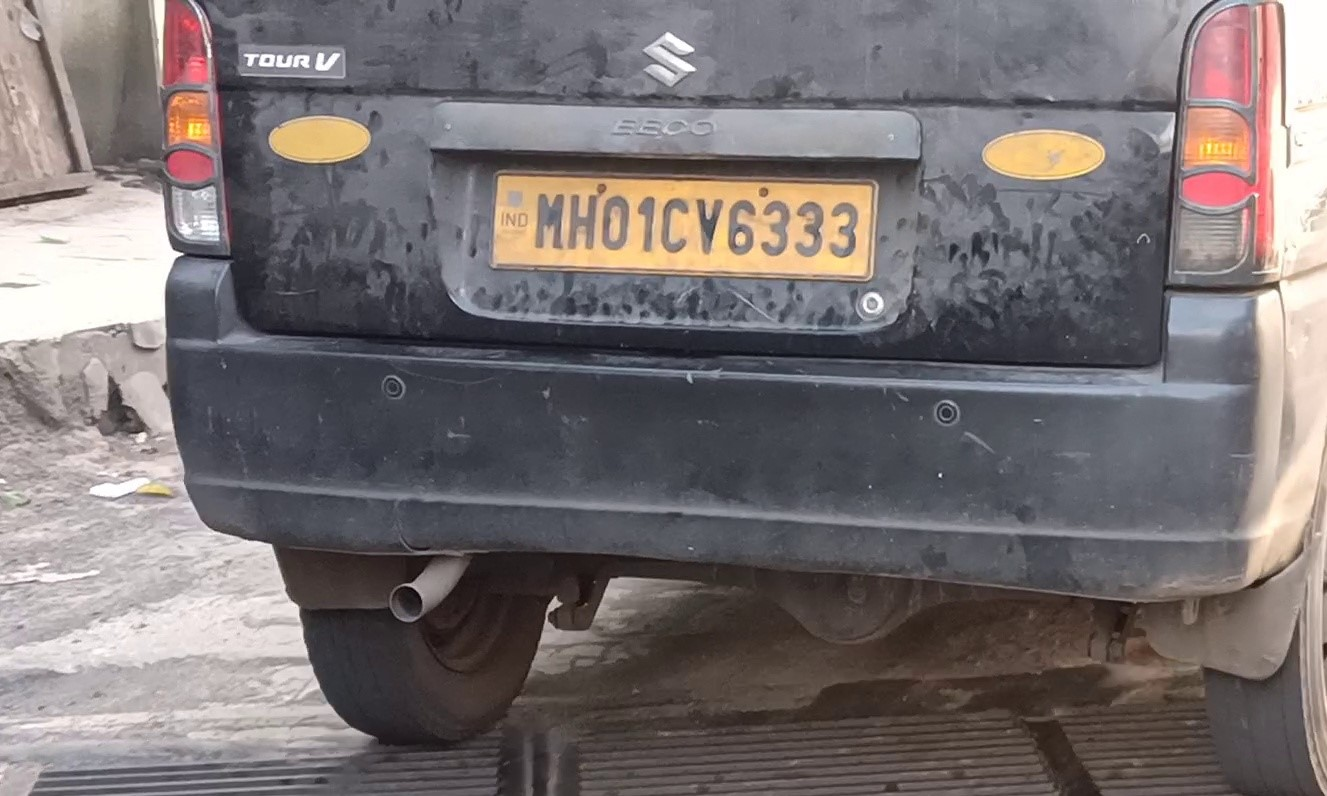MH01CV6333: (486, 172, 876, 283)
